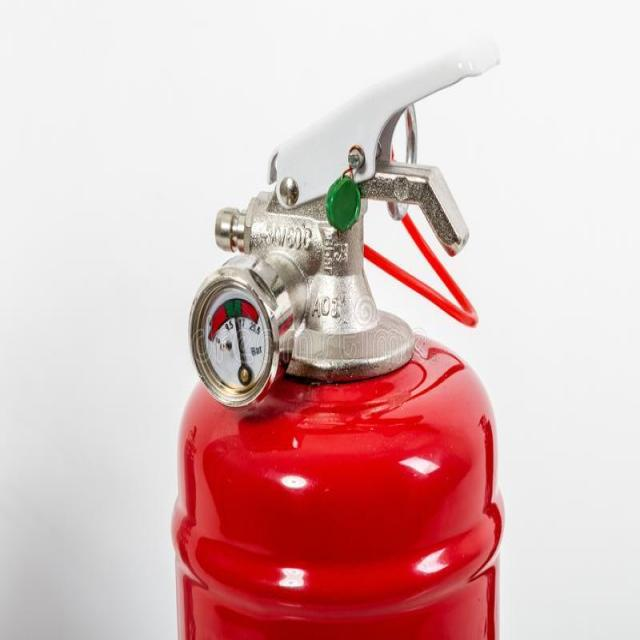fire_extinguisher: (164, 36, 507, 639)
